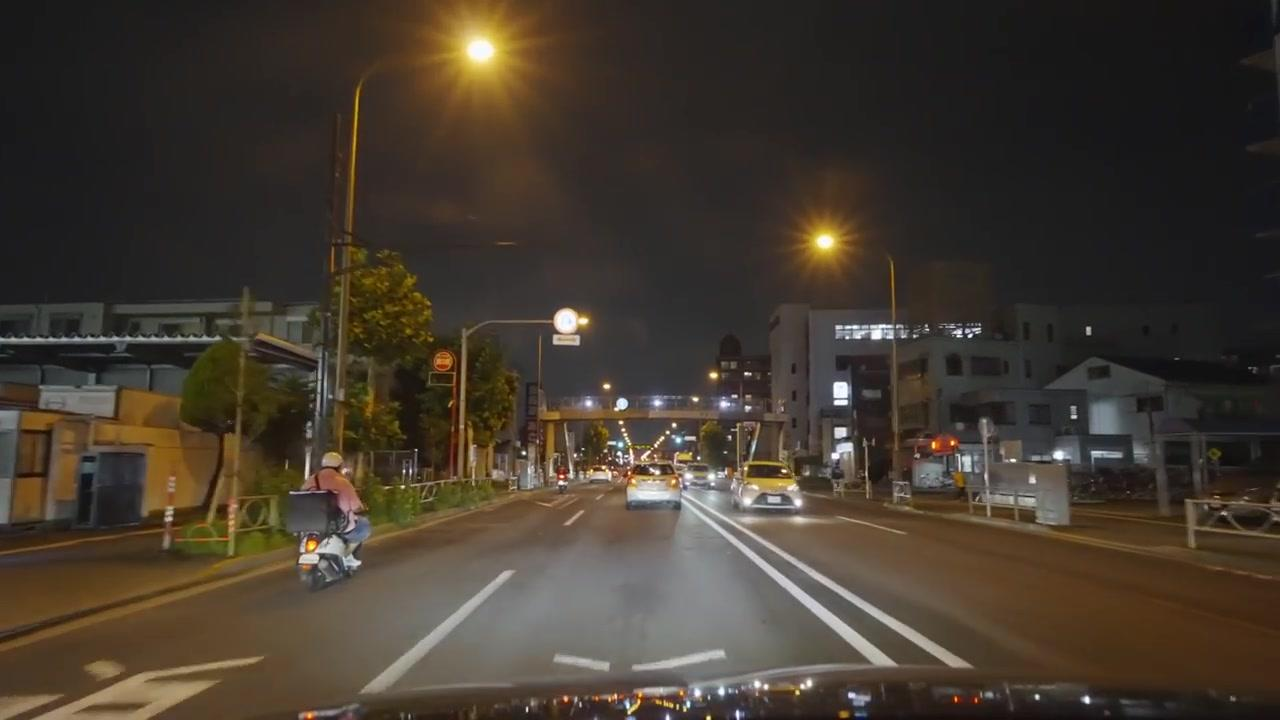car: (730, 460, 801, 511), (626, 462, 683, 511), (682, 468, 713, 488)
motorcycle: (294, 526, 355, 591)
person: (305, 452, 370, 568), (830, 454, 846, 499), (555, 463, 569, 493)
